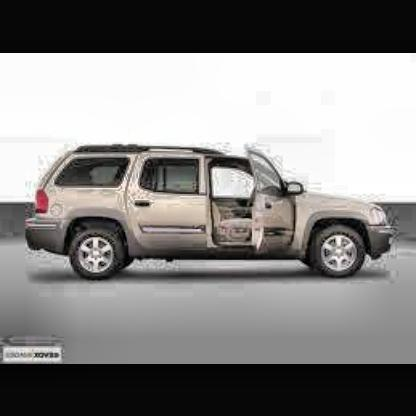Isuzu Ascender SUV 2008: (30, 145, 397, 284)
